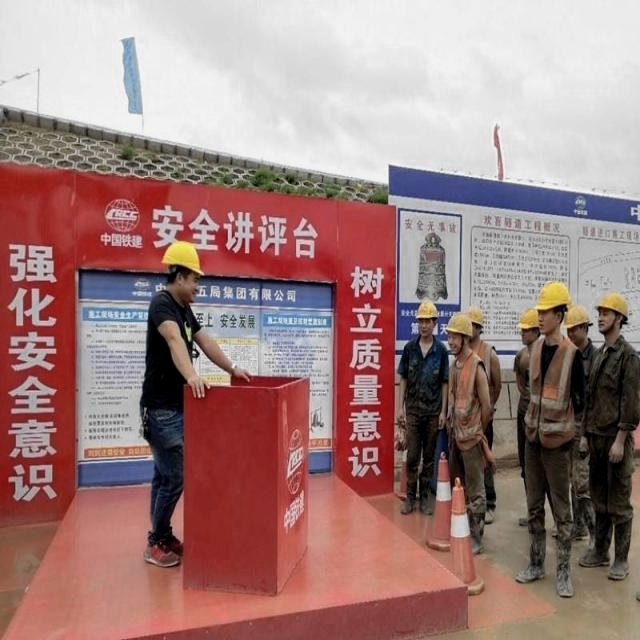Con_Casco: (164, 241, 205, 302)
